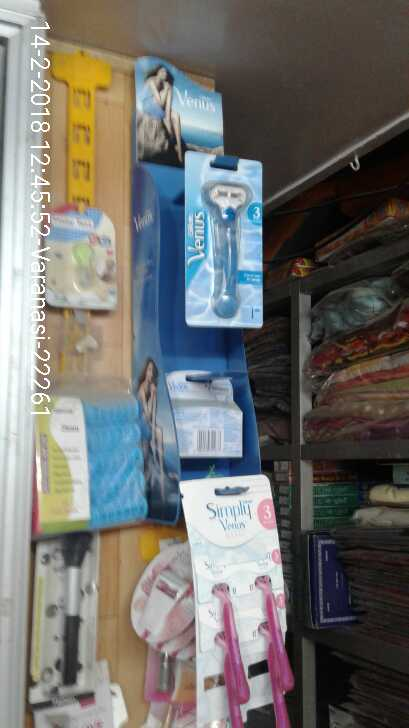venus: (184, 151, 266, 319)
